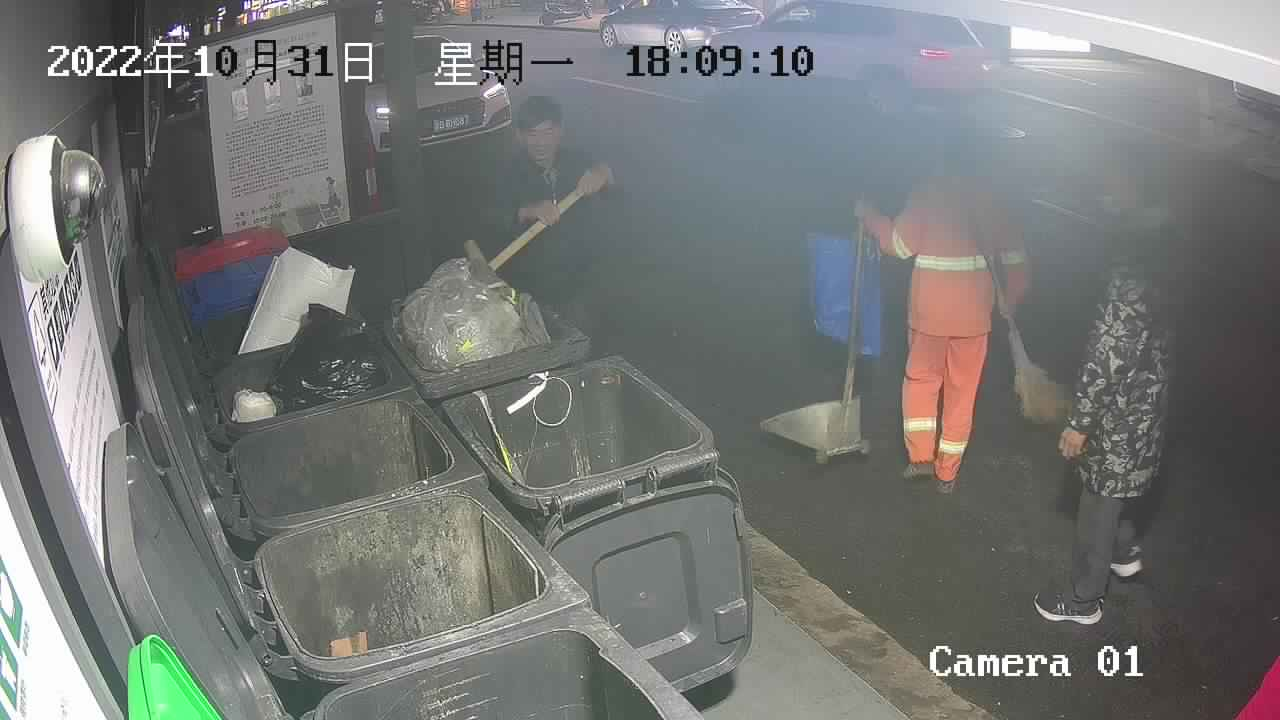person: (1032, 144, 1179, 625), (489, 92, 614, 315)
worker: (850, 127, 1033, 498)
